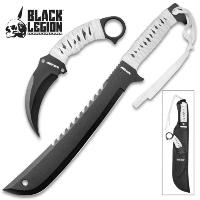knife: (3, 1, 182, 197), (25, 3, 52, 139)
